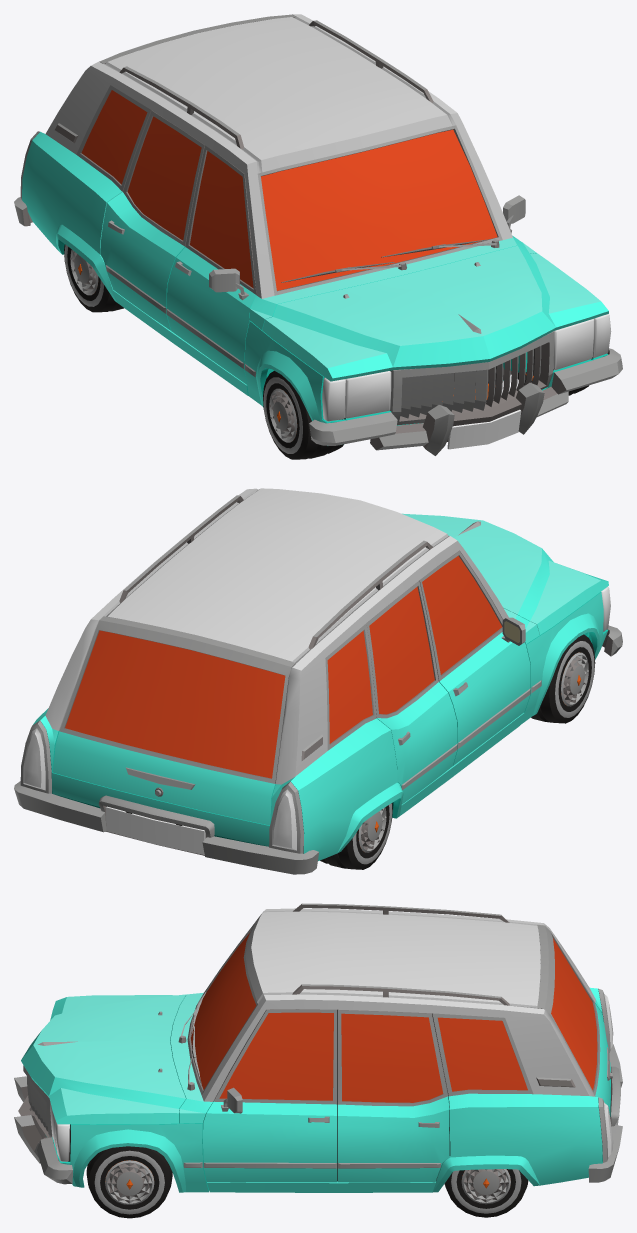
File: car4.fbx
The picture shows the model from 3 angles, top to bottom: view 1: azimuth 30°, elevation 25°; view 2: azimuth 150°, elevation 25°; view 3: azimuth 270°, elevation 25°; orthographic projection. The views are drawn at different scales.
Parts seen in each view (by area): view 1: Body.006, Bonet.005, Doors_FR.004, Doors_RR.003, Bumper_F.006, Grill_F.004, Fender_FR.006, Wheel_FR.006, Headlights_FR.002, Headlights_FL.002, rim.005, Wheel_RR.006 (+5 smaller); view 2: Body.006, Bootlid.002, Doors_FR.004, Doors_RR.003, Bonet.005, Bumper_R.006, Fender_FR.006, Wheel_FR.006, Lights_RR.003, Lights_RL.003, Wheel_RR.006, rim.005 (+1 smaller); view 3: Body.006, Doors_FL.004, Doors_RL.003, Bonet.005, Bootlid.002, Fender_FL.006, Wheel_FL.006, Bumper_F.006, Wheel_RL.006, rim.007, Bumper_R.006, rim.006 (+5 smaller).
Boxes of the visible parts, <box> form: Body.006: <box>22,14,536,395</box>; Bonet.005: <box>262,245,608,381</box>; Doors_FR.004: <box>166,145,256,384</box>; Doors_RR.003: <box>100,110,204,330</box>; Bumper_F.006: <box>309,348,622,455</box>; Grill_F.004: <box>389,331,554,425</box>; Fender_FR.006: <box>244,321,345,445</box>; Wheel_FR.006: <box>263,371,343,459</box>; Headlights_FR.002: <box>344,370,391,419</box>; Headlights_FL.002: <box>553,319,594,370</box>; rim.005: <box>269,388,297,442</box>; Wheel_RR.006: <box>64,244,123,312</box>; Body.006: <box>33,488,539,860</box>; Bootlid.002: <box>52,616,295,825</box>; Doors_FR.004: <box>419,551,530,765</box>; Doors_RR.003: <box>366,580,457,804</box>; Bonet.005: <box>402,513,608,634</box>; Bumper_R.006: <box>14,781,319,874</box>; Fender_FR.006: <box>520,592,608,724</box>; Wheel_FR.006: <box>531,634,595,723</box>; Lights_RR.003: <box>269,781,303,853</box>; Lights_RL.003: <box>20,720,51,793</box>; Wheel_RR.006: <box>320,803,392,869</box>; rim.005: <box>561,652,588,706</box>; Body.006: <box>170,903,610,1192</box>; Doors_FL.004: <box>203,1009,337,1182</box>; Doors_RL.003: <box>338,1009,449,1182</box>; Bonet.005: <box>21,994,185,1124</box>; Bootlid.002: <box>537,925,612,1108</box>; Fender_FL.006: <box>57,1123,208,1192</box>; Wheel_FL.006: <box>86,1146,172,1218</box>; Bumper_F.006: <box>14,1076,72,1184</box>; Wheel_RL.006: <box>444,1169,528,1217</box>; rim.007: <box>105,1160,154,1204</box>; Bumper_R.006: <box>588,1044,622,1182</box>; rim.006: <box>461,1169,510,1204</box>.
Size of the model in its own units: 126 by 92.54 by 239.
